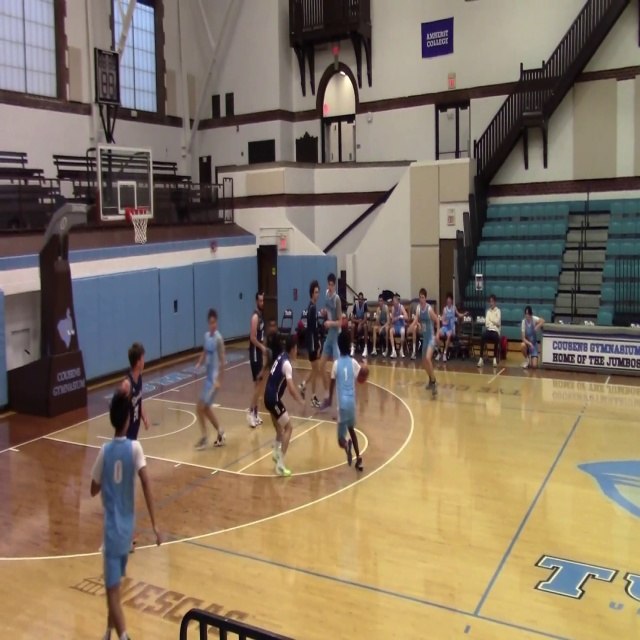Basketball: (357, 365, 369, 383), (119, 380, 131, 397)
